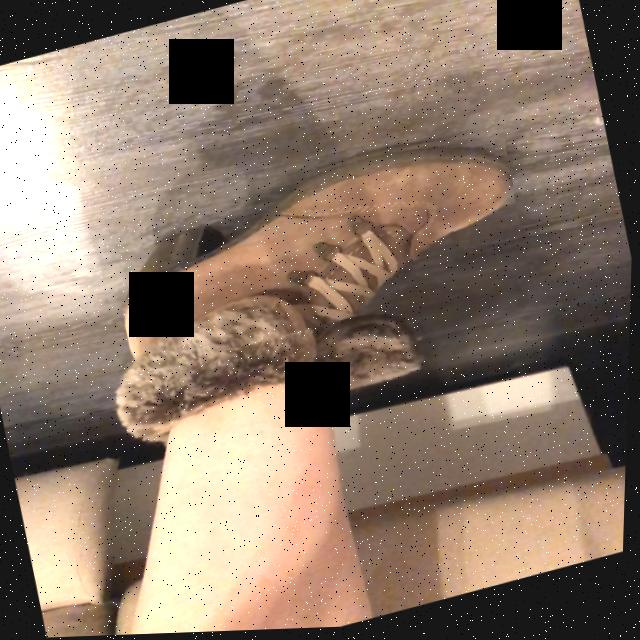shoe: (125, 148, 514, 364)
